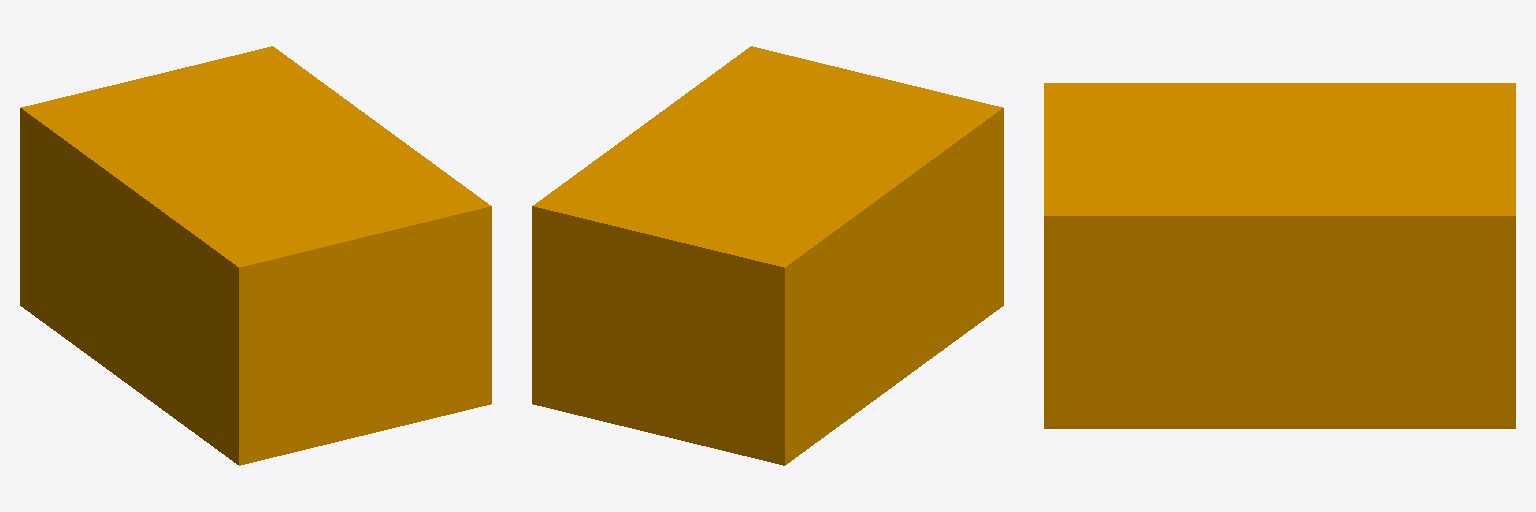
The robot description file, URDF, robot "2x2":
<?xml version='1.0' encoding='UTF-8'?>
<robot name="2x2">
  <link name="base_link">
    <inertial>
      <origin xyz="0.0 0.0 0.0" rpy="0.0 0.0 0.0"/>
      <mass value="0.01"/>
      <inertia ixx="0.1" ixy="0.0" ixz="0.0" iyy="0.1" iyz="0.0" izz="0.1"/>
    </inertial>
    <visual>
      <geometry>
        <box size="0.016 0.024 0.012"/>
      </geometry>
      <material name=""/>
      <origin xyz="0.0 0.0 0.0" rpy="0.0 0.0 0.0"/>
    </visual>
    <collision>
      <geometry>
        <box size="0.016 0.024 0.012"/>
      </geometry>
      <origin xyz="0.0 0.0 0.0" rpy="0.0 0.0 0.0"/>
    </collision>
  </link>
  <material name="">
    <color rgba="1. 1. 1. 1."/>
  </material>
  <contact>
    <lateral_friction value="1.0"/>
    <rolling_friction value="0.0"/>
    <contact_cfm value="0.0"/>
    <contact_erp value="1.0"/>
  </contact>
</robot>

--- Facts derived from the render (not from the file) ---
3 views of the same robot in one strip: view 1: azimuth 30°, elevation 25°; view 2: azimuth 150°, elevation 25°; view 3: azimuth 270°, elevation 25° (orthographic).
Robot: 2x2 — 1 links, 0 joints (none); root link base_link; default pose: all joints at 0.
Visible links, largest first — view 1: base_link; view 2: base_link; view 3: base_link.
Boxes of the visible links, <box> form: base_link: <box>20,46,491,465</box>; base_link: <box>532,46,1003,465</box>; base_link: <box>1044,83,1515,428</box>.
Bounding box of the posed robot: 0.016 × 0.024 × 0.012 m (x, y, z).
Geometry: primitives only (box / cylinder / sphere), no mesh files.